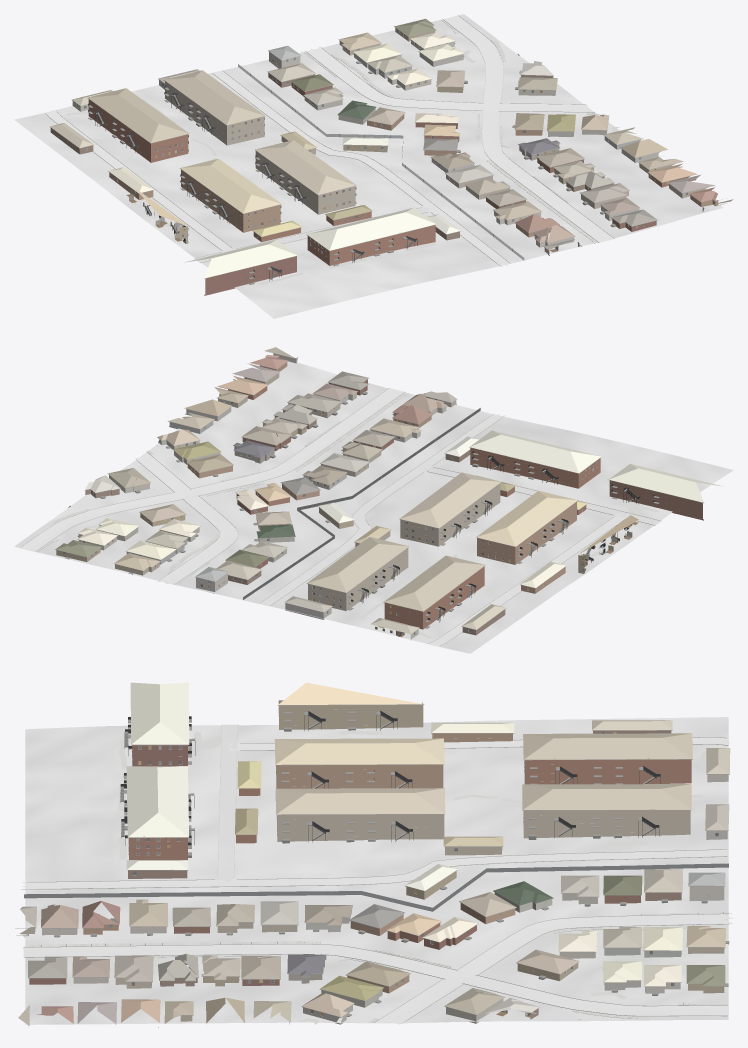
3 renders of one model, top to bottom at view 1: azimuth 30°, elevation 25°; view 2: azimuth 150°, elevation 25°; view 3: azimuth 270°, elevation 25°, orthographic. The views are drawn at different scales.
Parts seen in each view (by area): view 1: ground, roof, wall, concrete, detail, wall_stucco, curb, walk, chain, rail, glass; view 2: ground, roof, wall, concrete, detail, wall_stucco, curb, walk, chain, wall_stone, rail, glass; view 3: ground, roof, wall, concrete, detail, curb, wall_stucco, walk, chain, rail.
Part boxes in pixels (x1=…): ground: x1=14, y1=14, x2=723, y2=318; roof: x1=50, y1=18, x2=733, y2=278; wall: x1=50, y1=25, x2=725, y2=295; concrete: x1=46, y1=15, x2=613, y2=266; detail: x1=50, y1=25, x2=722, y2=284; wall_stucco: x1=72, y1=40, x2=704, y2=255; curb: x1=45, y1=15, x2=614, y2=265; walk: x1=66, y1=19, x2=619, y2=284; chain: x1=238, y1=64, x2=524, y2=260; rail: x1=88, y1=85, x2=417, y2=277; glass: x1=76, y1=31, x2=687, y2=250; ground: x1=14, y1=361, x2=733, y2=653; roof: x1=55, y1=347, x2=723, y2=633; wall: x1=56, y1=357, x2=703, y2=635; concrete: x1=20, y1=388, x2=660, y2=646; detail: x1=55, y1=354, x2=703, y2=635; wall_stucco: x1=78, y1=353, x2=456, y2=640; curb: x1=20, y1=387, x2=660, y2=645; walk: x1=36, y1=392, x2=659, y2=638; chain: x1=243, y1=408, x2=480, y2=599; wall_stone: x1=185, y1=407, x2=346, y2=619; rail: x1=351, y1=451, x2=654, y2=620; glass: x1=63, y1=366, x2=597, y2=634; ground: x1=25, y1=717, x2=728, y2=1024; roof: x1=18, y1=682, x2=730, y2=1025; wall: x1=29, y1=701, x2=724, y2=1027; concrete: x1=21, y1=724, x2=733, y2=1024; detail: x1=15, y1=702, x2=729, y2=1021; curb: x1=21, y1=724, x2=731, y2=1023; wall_stucco: x1=16, y1=774, x2=728, y2=1025; walk: x1=24, y1=730, x2=728, y2=1024; chain: x1=24, y1=863, x2=728, y2=911; rail: x1=120, y1=710, x2=660, y2=845.
Bounding box in the file's own units: 274 × 19.03 × 256.
